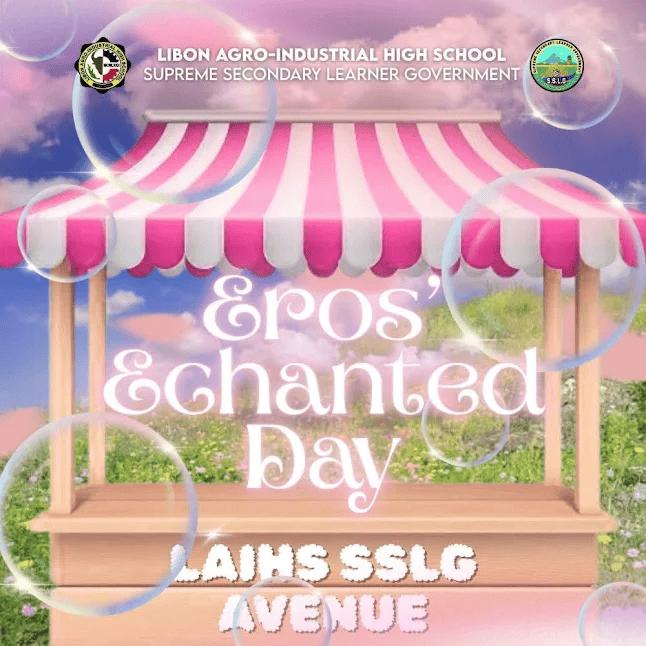embellishment: (67, 0, 285, 210), (436, 166, 646, 374), (0, 411, 202, 620), (15, 181, 122, 287), (521, 32, 627, 133), (230, 574, 334, 646), (1, 0, 80, 63), (573, 584, 646, 646)
logo: (68, 35, 137, 96), (527, 34, 591, 99)
text: (96, 268, 555, 520), (159, 531, 489, 640), (142, 42, 523, 85)
